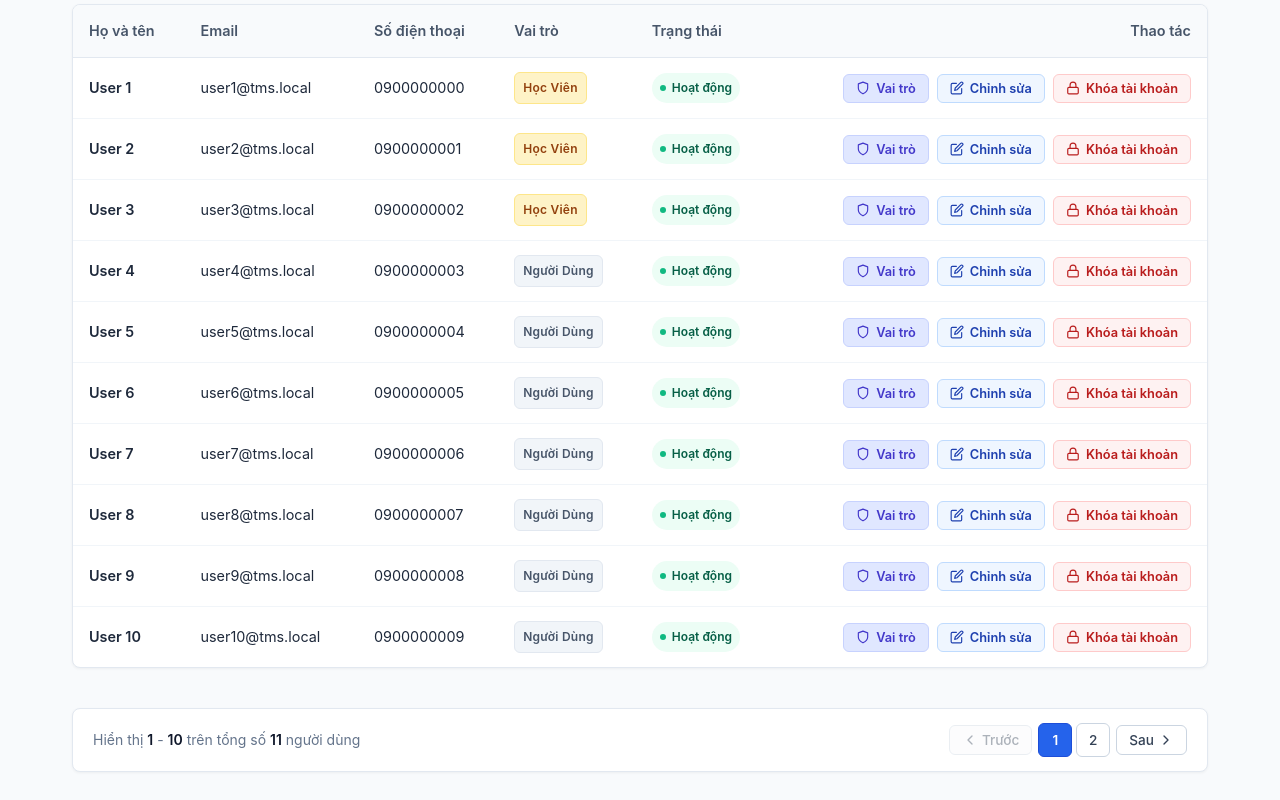
Test: SCRUM-25 Integration: User Management Pagination (10 users / page) › 2. Chuyển trang: Click Sau -> Trang 2 hiển thị 1 user còn lại, Trước enabled, Sau disabled
(page scrolled)
// Bấm nút Sau
Click the button with test id "btn-pagination-next": (1152,740) [1116, 725, 1187, 755]
(page scrolled)
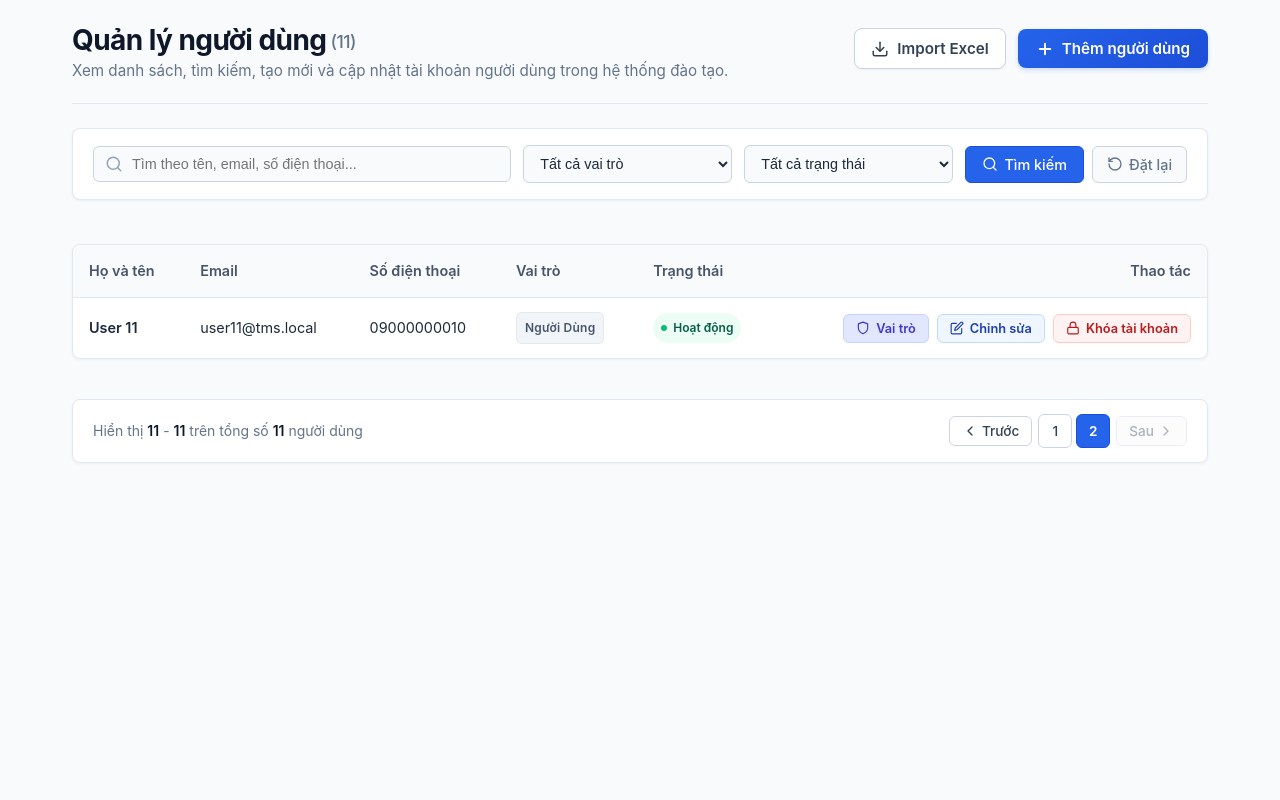
expect the element with test id "pagination-info" reads "Hiển thị 11 - 11 trên tổng số 11 người dùng": met, box [93, 419, 363, 443]
expect the button with test id "btn-pagination-prev" is enabled: met, box [949, 416, 1032, 446]
expect the button with test id "btn-pagination-next" is disabled: met, box [1116, 416, 1187, 446]
